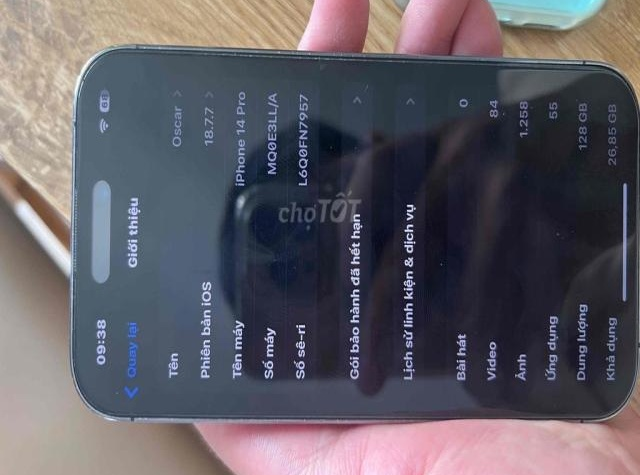scratch: (179, 39, 449, 71), (117, 403, 170, 422)
